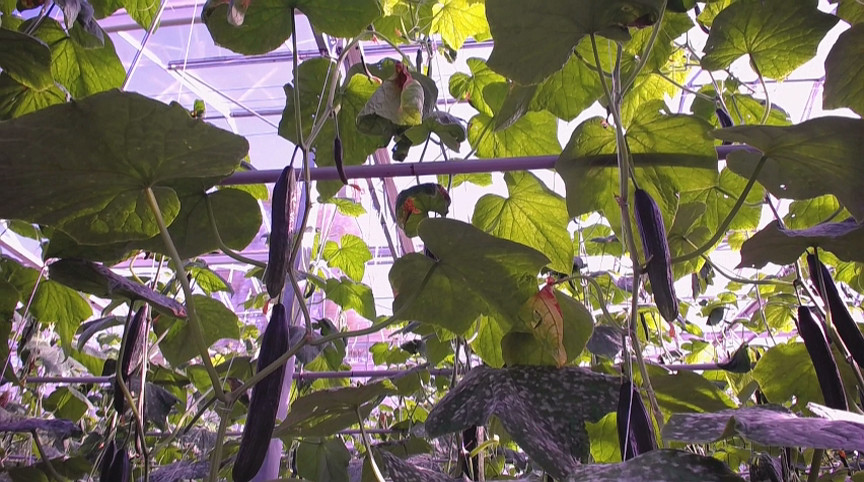cucumber: (232, 302, 292, 482), (632, 189, 683, 321), (805, 253, 864, 359), (797, 306, 848, 414), (267, 167, 303, 300), (114, 304, 155, 416), (616, 384, 659, 460)
